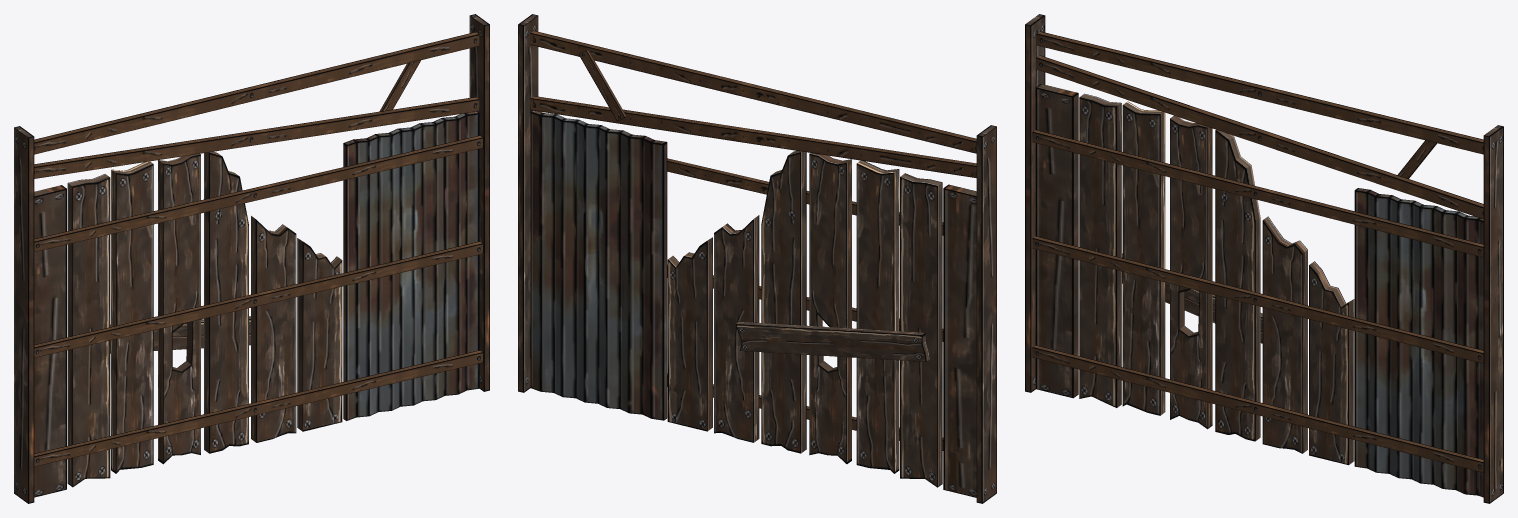
The model's file is wall_01.fbx.
The picture shows the model from 3 angles, left to right: view 1: azimuth 30°, elevation 25°; view 2: azimuth 150°, elevation 25°; view 3: azimuth 330°, elevation 25°; orthographic projection.
Parts seen in each view (by area): view 1: Junk_Wall_01; view 2: Junk_Wall_01; view 3: Junk_Wall_01.
Part boxes in pixels (x1,y1,x2,y2): Junk_Wall_01: [14, 14, 489, 503]; Junk_Wall_01: [518, 14, 996, 503]; Junk_Wall_01: [1025, 14, 1503, 503].
Size of the model in its own units: 489 by 370 by 27.74.
Materials: 1 (1 with a texture image).
